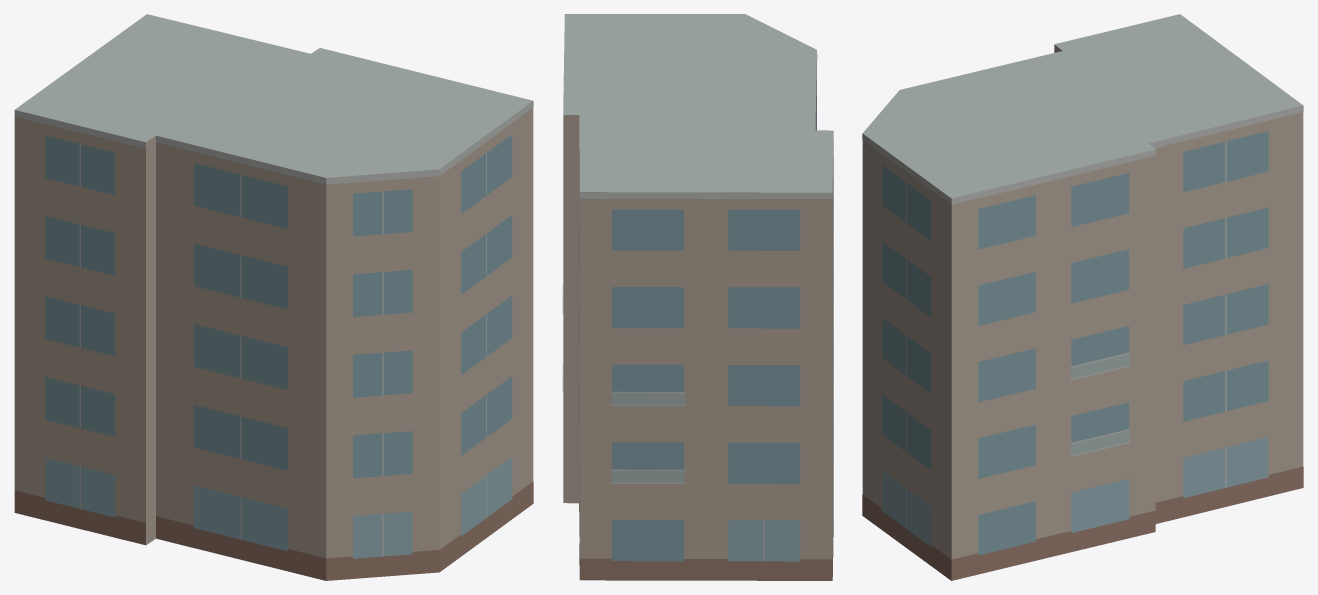
The model's file is survey-upis-32696143.glb.
3 renders of one model, left to right at view 1: azimuth 30°, elevation 25°; view 2: azimuth 150°, elevation 25°; view 3: azimuth 270°, elevation 25°, orthographic. The views are drawn at different scales.
Visible parts, largest first — view 1: survey-upis-32696143.tmp; view 2: survey-upis-32696143.tmp; view 3: survey-upis-32696143.tmp.
Boxes of the visible parts, x1,y1,x2,y2 form: survey-upis-32696143.tmp: (14,14,533,580); survey-upis-32696143.tmp: (562,14,833,580); survey-upis-32696143.tmp: (862,14,1303,580).
Size of the model in its own units: 15.12 by 14.6 by 15.27.
